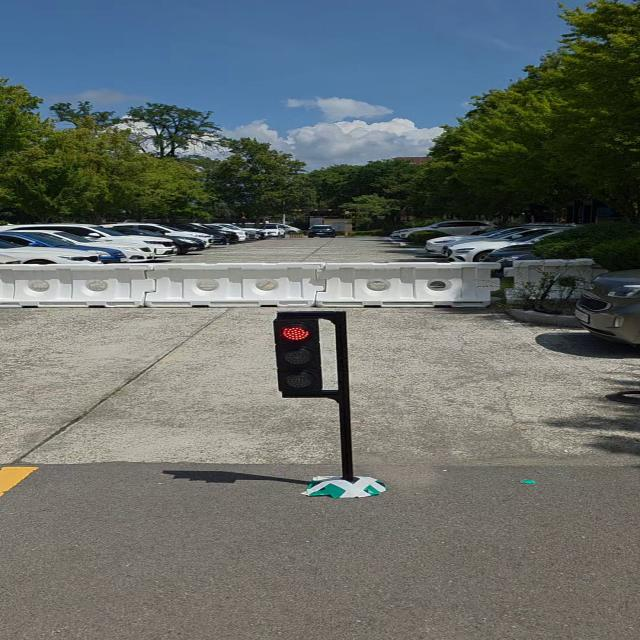red: (268, 315, 328, 393)
